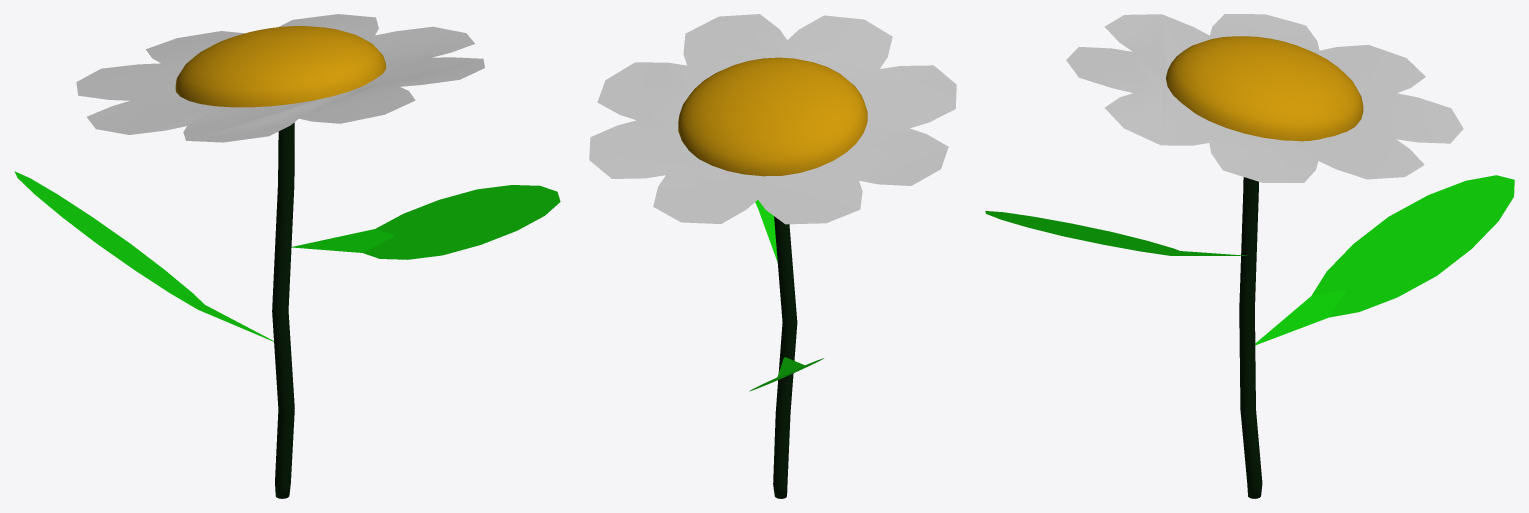
The model's file is Flower 1.obj.
3 renders of one model, left to right at view 1: azimuth 30°, elevation 25°; view 2: azimuth 150°, elevation 25°; view 3: azimuth 270°, elevation 25°, orthographic. The views are drawn at different scales.
Parts seen in each view (by area): view 1: Flower; view 2: Flower; view 3: Flower.
Boxes of the visible parts, <box> form: Flower: <box>14,14,560,498</box>; Flower: <box>589,14,956,498</box>; Flower: <box>985,14,1514,498</box>.
Size of the model in its own units: 0.3096 by 0.3676 by 0.3951.
